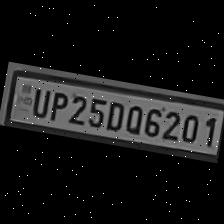0: (176, 109, 200, 144)
1: (197, 113, 220, 148)
2: (62, 89, 88, 126), (159, 106, 181, 142)
5: (82, 93, 106, 129)
6: (139, 103, 163, 139)
D: (102, 96, 126, 132)
P: (43, 86, 68, 122)
Q: (121, 100, 144, 134)
U: (24, 84, 50, 118)
